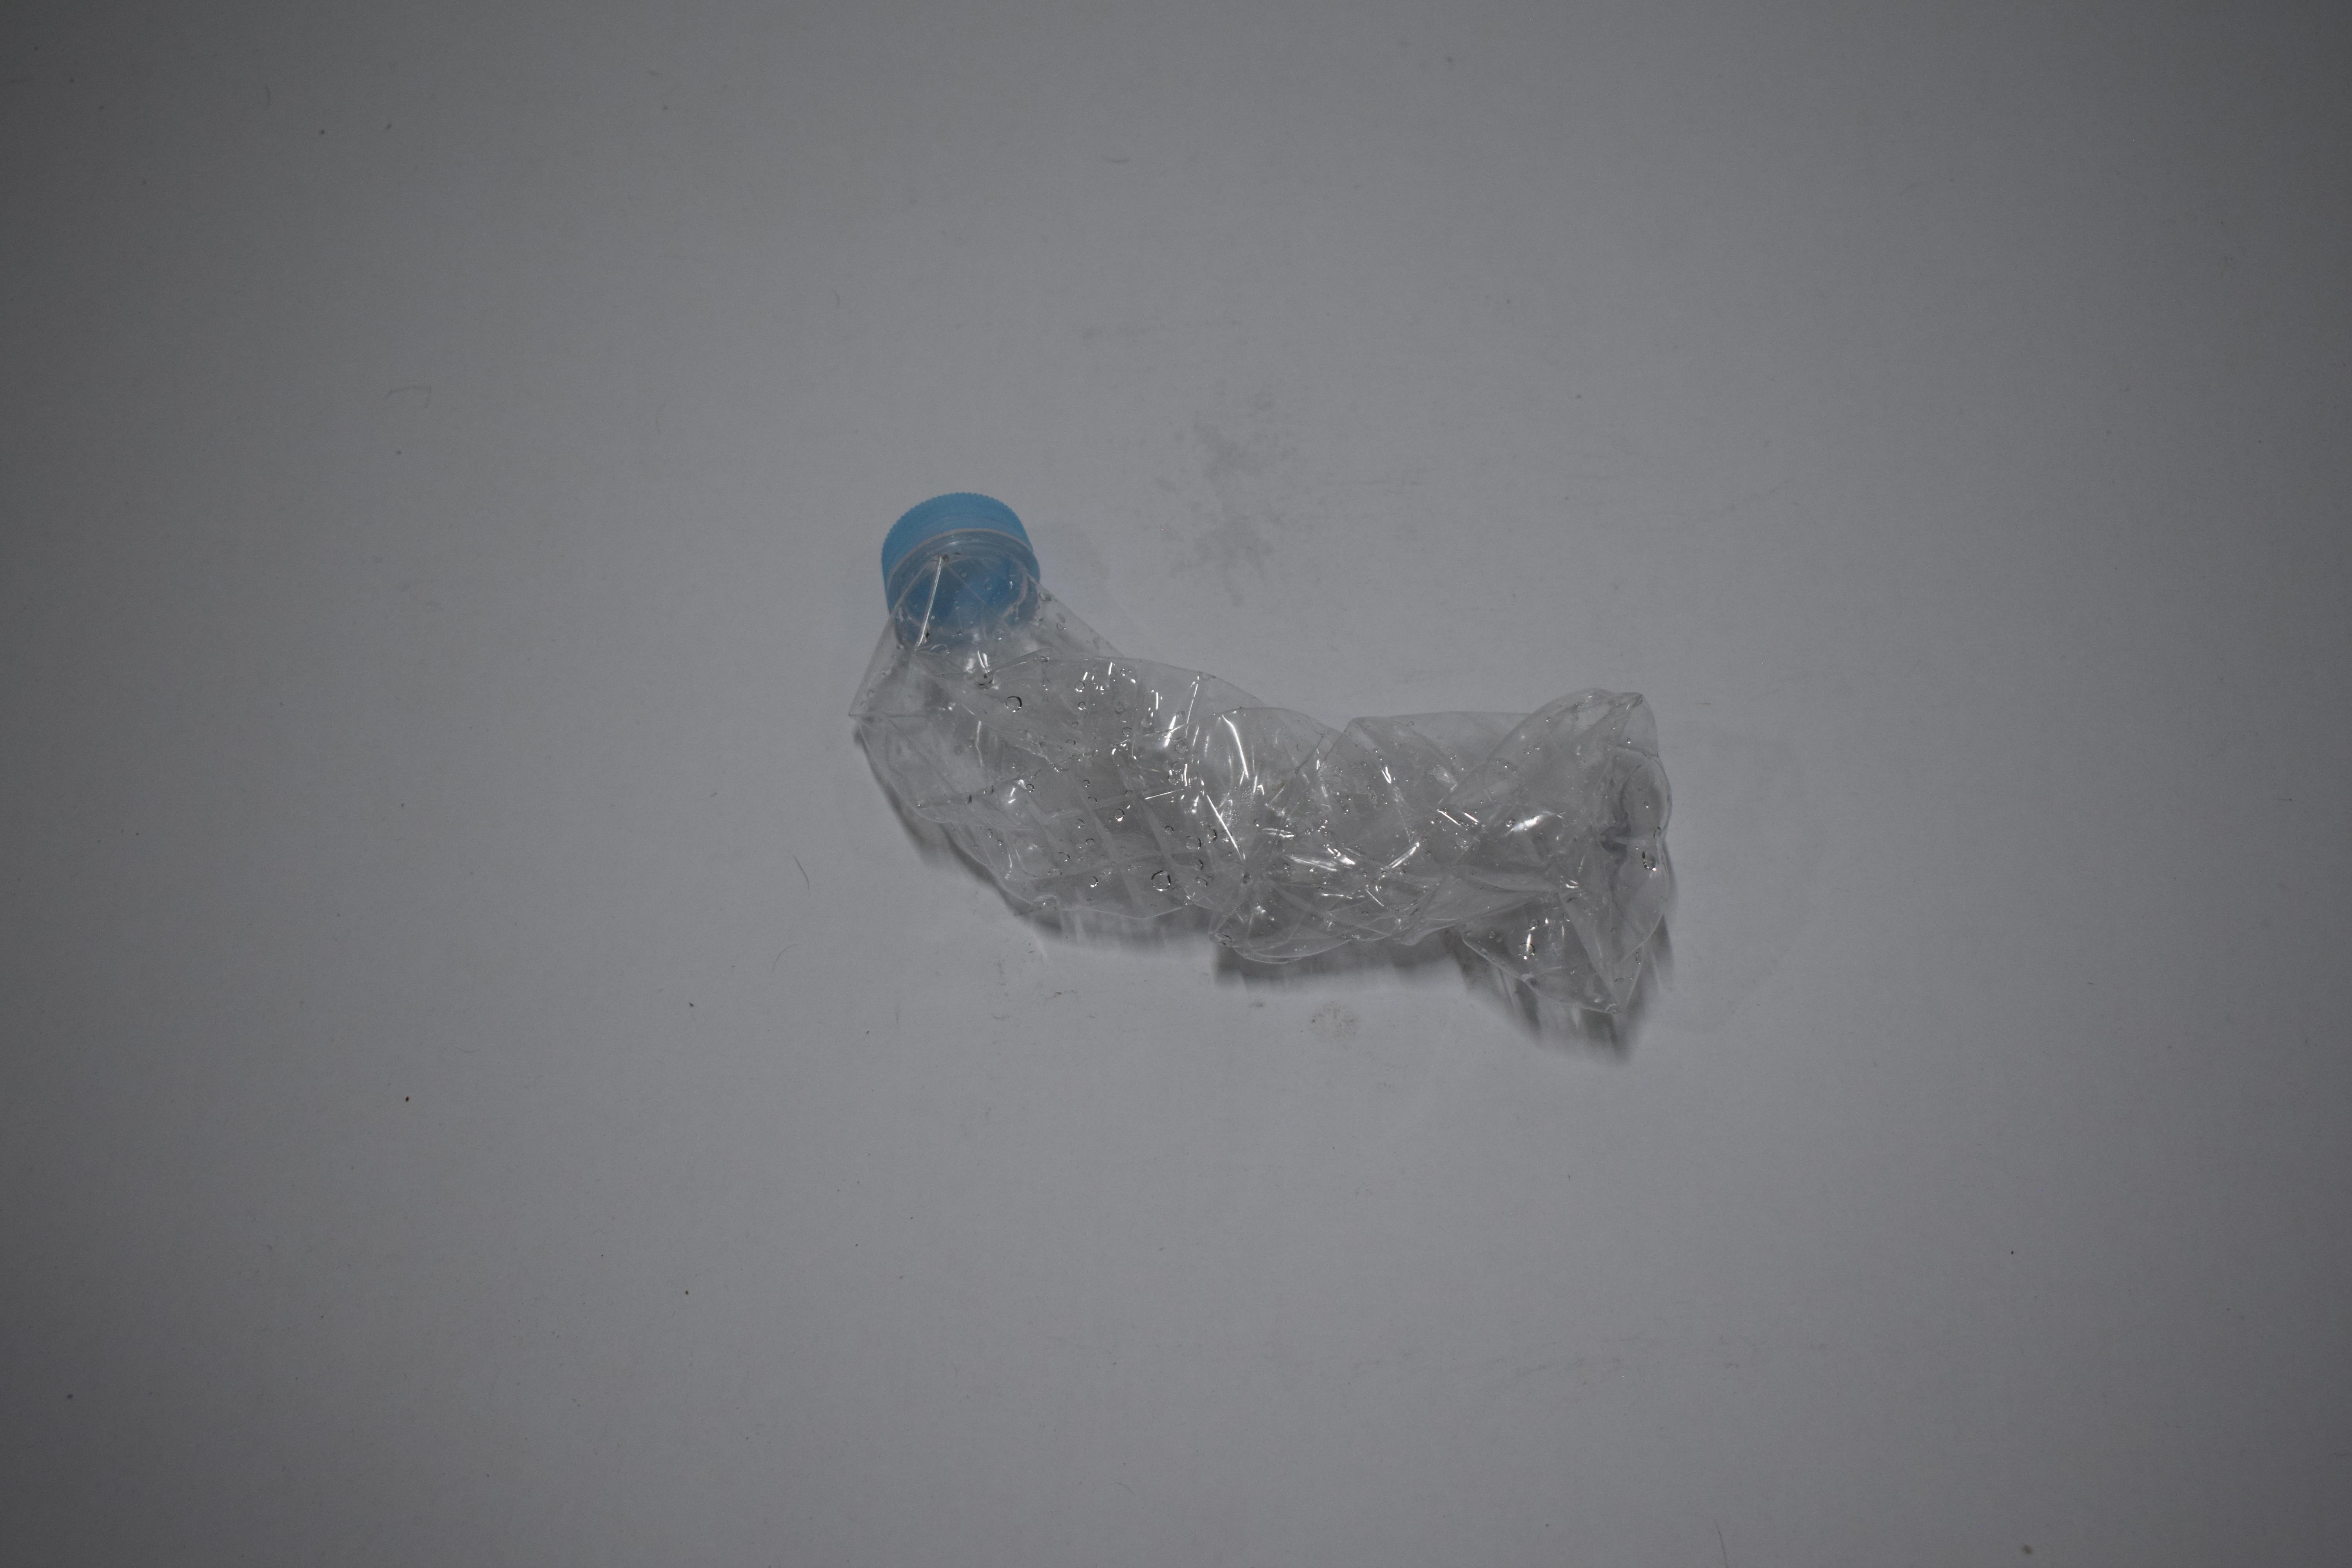bottle: (0, 518, 513, 987)
